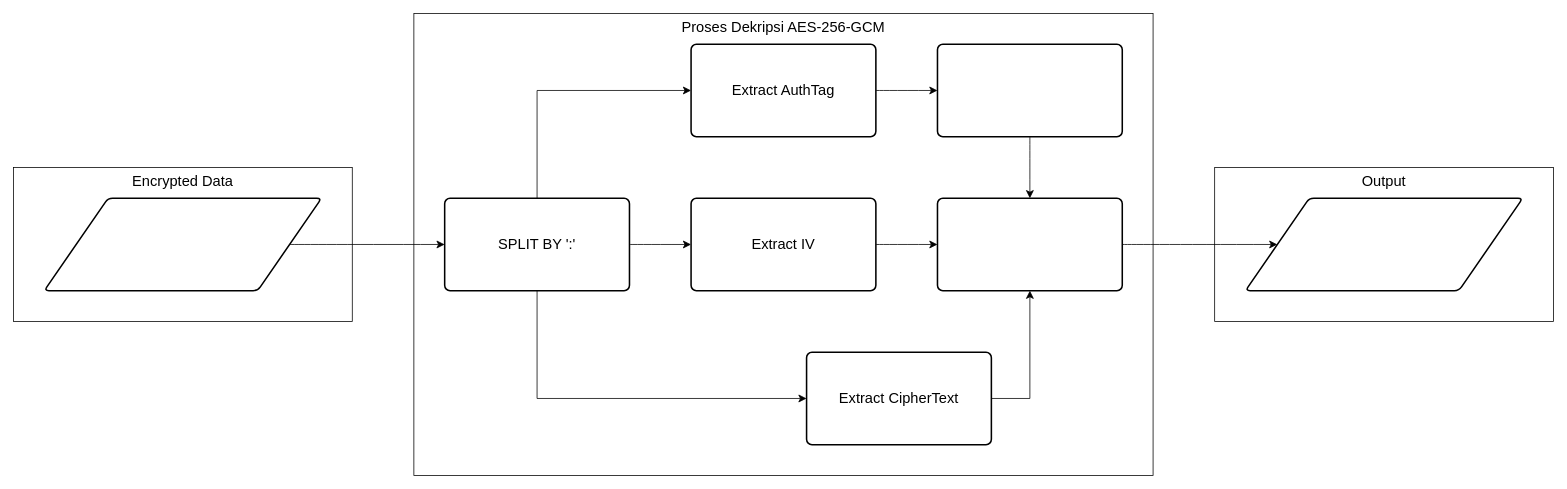
Image size: 1567x489. Some labels were removed from this diagram. Here are the shapes that lost their labels. From the top down, the centre of each, then its label:
(1029,90): Verify AuthTag
(182,244): IV:AuthTag:CipherText
(1029,244): AES-256-GCM Decipher
(1383,244): Plain Text
